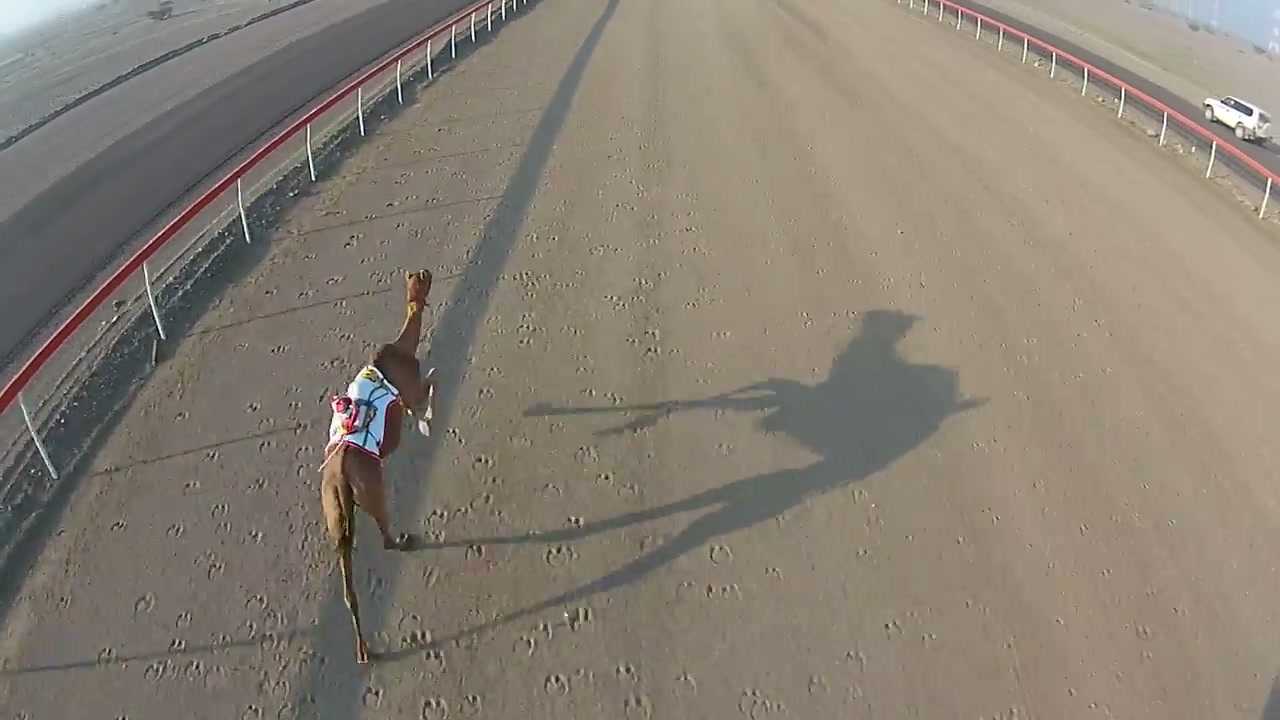animal_foot_print: (104, 175, 408, 698), (389, 297, 697, 718)
